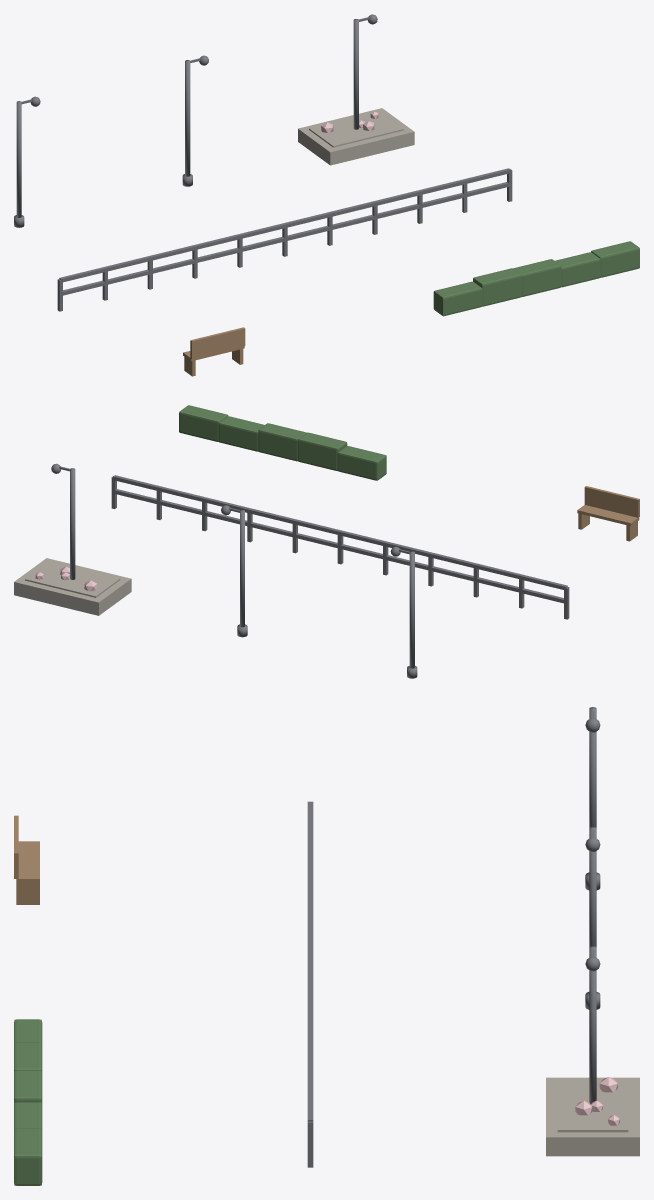
File: ENV_LANDSCAPE_ASSETS.glb
3 views of the same model, one above another, from view 1: azimuth 30°, elevation 25°; view 2: azimuth 150°, elevation 25°; view 3: azimuth 270°, elevation 25° (orthographic). The views are drawn at different scales.
Visible parts, largest first — view 1: FlowerBed_Border, ENV_Rail_Rail_102, ENV_Rail_Rail_57, ENV_Bench, ENV_Hedge_Seg_1, ENV_Hedge_Seg_0, ENV_Hedge_Seg_2, ENV_Hedge_Seg_4, ENV_Hedge_Seg_3, ENV_Lamp_0_Pole, ENV_Lamp_1_Pole, ENV_Lamp_2_Pole; view 2: FlowerBed_Border, ENV_Rail_Rail_102, ENV_Rail_Rail_57, ENV_Bench, ENV_Hedge_Seg_1, ENV_Hedge_Seg_0, ENV_Hedge_Seg_2, ENV_Hedge_Seg_4, ENV_Hedge_Seg_3, ENV_Lamp_0_Pole, ENV_Lamp_2_Pole, ENV_Lamp_1_Pole; view 3: FlowerBed_Border, ENV_Rail_Rail_102, ENV_Bench, ENV_Hedge_Seg_4, ENV_Lamp_2_Pole, ENV_Hedge_Seg_2, ENV_Hedge_Seg_1, ENV_Lamp_0_Pole, ENV_Lamp_1_Pole, ENV_Hedge_Seg_3, FlowerBed_Flowers, ENV_Hedge_Seg_0.
Boxes of the visible parts, x1,y1,x2,y2 form: FlowerBed_Border: (298,108,414,165); ENV_Rail_Rail_102: (59,168,510,282); ENV_Rail_Rail_57: (62,182,510,295); ENV_Bench: (183,327,245,376); ENV_Hedge_Seg_1: (473,268,521,306); ENV_Hedge_Seg_0: (433,281,482,316); ENV_Hedge_Seg_2: (513,259,561,296); ENV_Hedge_Seg_4: (591,241,639,277); ENV_Hedge_Seg_3: (555,252,600,287); ENV_Lamp_0_Pole: (16,101,21,217); ENV_Lamp_1_Pole: (185,60,190,176); ENV_Lamp_2_Pole: (353,19,358,129); FlowerBed_Border: (14,558,131,615); ENV_Rail_Rail_102: (113,475,567,589); ENV_Rail_Rail_57: (113,489,565,603); ENV_Bench: (577,486,639,541); ENV_Hedge_Seg_1: (298,432,347,470); ENV_Hedge_Seg_0: (337,446,386,480); ENV_Hedge_Seg_2: (258,423,306,461); ENV_Hedge_Seg_4: (179,405,228,441); ENV_Hedge_Seg_3: (218,416,264,451); ENV_Lamp_0_Pole: (409,551,414,668); ENV_Lamp_2_Pole: (70,468,75,579); ENV_Lamp_1_Pole: (240,509,244,627); FlowerBed_Border: (546,1077,639,1156); ENV_Rail_Rail_102: (307,801,313,1121); ENV_Bench: (14,815,39,904); ENV_Hedge_Seg_4: (14,1128,42,1185); ENV_Lamp_2_Pole: (589,946,596,1104); ENV_Hedge_Seg_2: (14,1070,42,1104); ENV_Hedge_Seg_1: (14,1042,42,1072); ENV_Lamp_0_Pole: (589,707,596,827); ENV_Lamp_1_Pole: (589,826,596,946); ENV_Hedge_Seg_3: (14,1102,42,1130); FlowerBed_Flowers: (575,1077,619,1125); ENV_Hedge_Seg_0: (14,1019,42,1044).
Bounding box in the file's own units: 17.07 × 4.24 × 13.3.
